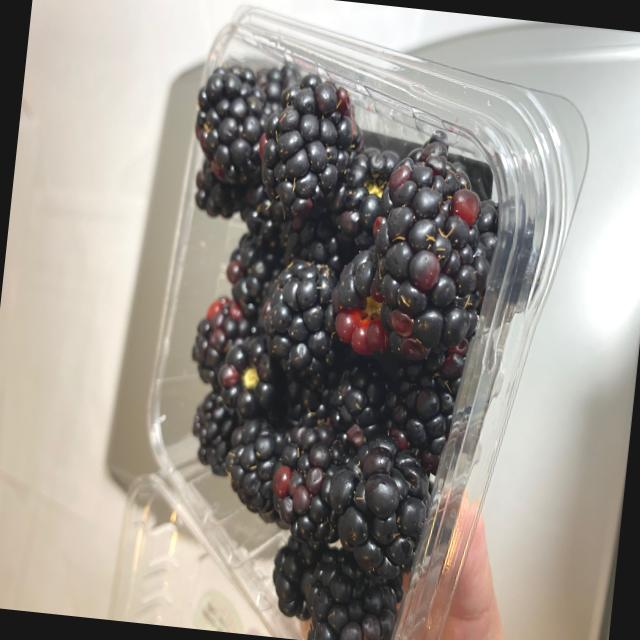blackberries: (140, 33, 483, 640)
